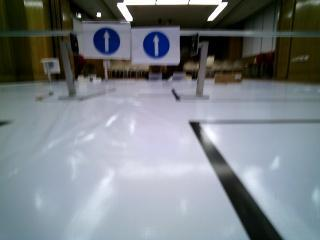straight: (82, 21, 130, 60), (132, 28, 179, 61)
